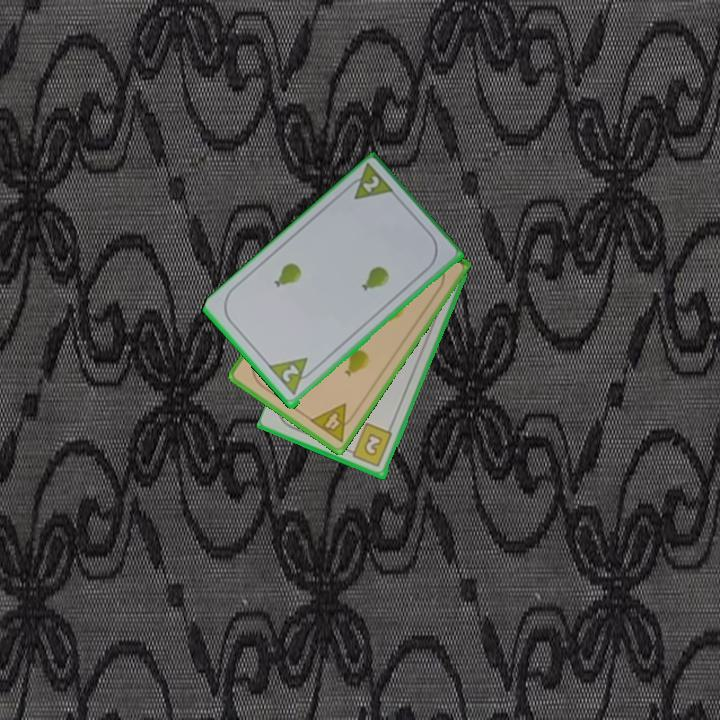2b: (344, 420, 395, 470)
2p: (341, 161, 398, 203), (278, 361, 302, 385)
4p: (306, 400, 360, 445)
